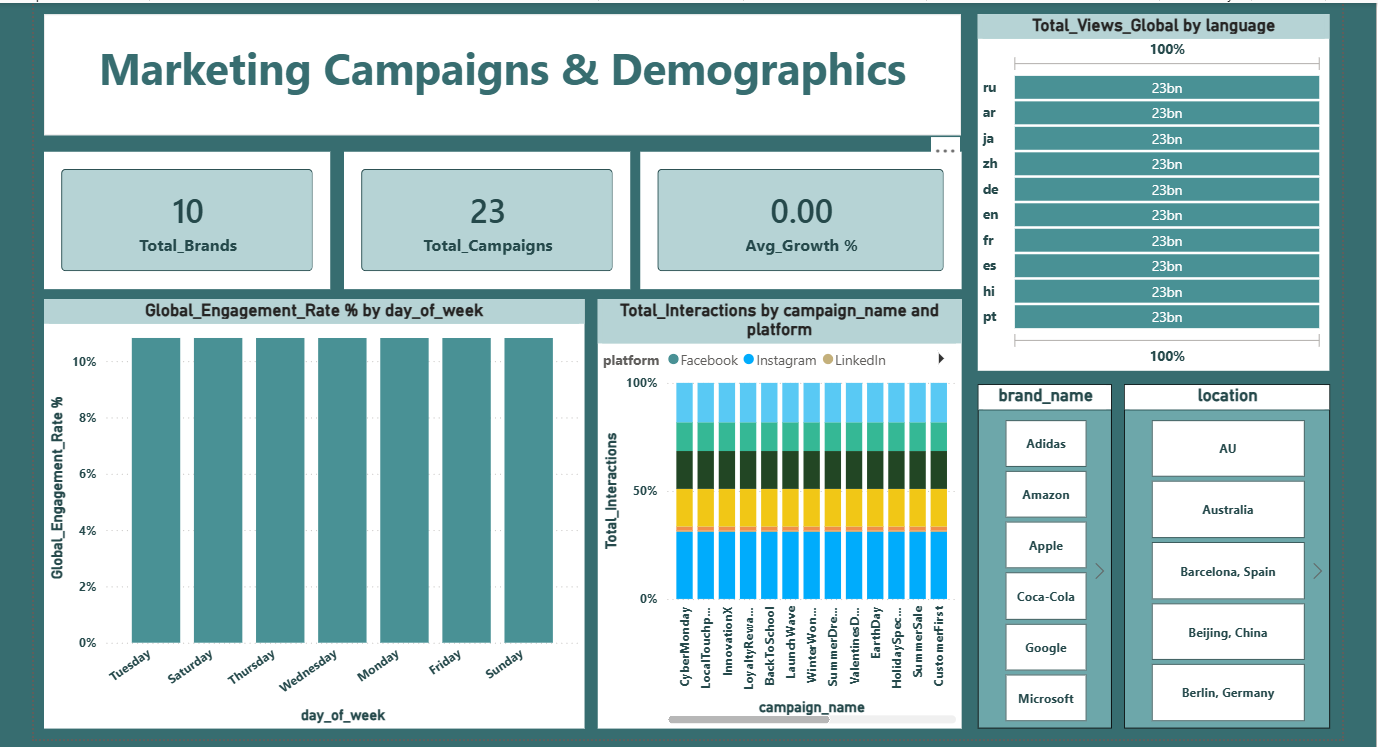

The page's visual inventory and layout, read from the dashboard file:
{"tool":"powerbi","page":{"name":"Page 3","canvas":[1280,720],"ordinal":2},"visuals":[{"type":"cardVisual","fields":{"Data":["Dim_Hashtags.Total_Brands"]},"box":[10,145.7,280,134.3],"z":0},{"type":"cardVisual","fields":{"Data":["Dim_Hashtags.Total_Campaigns"]},"box":[302.9,145.7,280,134.3],"z":1000},{"type":"cardVisual","fields":{"Data":["Dim_Hashtags.Avg_Growth %"]},"box":[592.9,145.7,314.3,134.3],"z":2000},{"type":"columnChart","fields":{"Category":["Social_Media_Engagement_Dataset.day_of_week"],"Y":["Dim_Hashtags.Global_Engagement_Rate %"]},"box":[10,290,528.6,420],"z":3000},{"type":"hundredPercentStackedColumnChart","fields":{"Category":["Social_Media_Engagement_Dataset.campaign_name"],"Y":["Dim_Hashtags.Total_Interactions"],"Series":["Dim_Platform.platform"]},"box":[551.4,290,355.7,420],"z":4000},{"type":"funnel","fields":{"Category":["Social_Media_Engagement_Dataset.language"],"Y":["Dim_Hashtags.Total_Views_Global"]},"box":[922.9,11.4,344.3,348.6],"z":5000},{"type":"slicer","title":"brand_name","fields":{"Values":["Social_Media_Engagement_Dataset.brand_name"]},"box":[922.9,372.9,131.4,337.1],"z":6000},{"type":"slicer","title":"location","fields":{"Values":["Dim_Region.location"]},"box":[1065.7,372.9,201.4,337.1],"z":7000},{"type":"textbox","box":[10,11.4,897.1,118.6],"z":8000}]}

Visuals, with their boxes in screenshot pixels (x1, y1, x2, y2):
cardVisual - Dim_Hashtags.Total_Brands: Rect(43, 145, 329, 283)
cardVisual - Dim_Hashtags.Total_Campaigns: Rect(342, 145, 628, 283)
cardVisual - Dim_Hashtags.Avg_Growth %: Rect(638, 145, 960, 283)
columnChart - Social_Media_Engagement_Dataset.day_of_week x Dim_Hashtags.Global_Engagement_Rate %: Rect(43, 293, 583, 722)
hundredPercentStackedColumnChart - Social_Media_Engagement_Dataset.campaign_name x Dim_Hashtags.Total_Interactions: Rect(596, 293, 960, 722)
funnel - Social_Media_Engagement_Dataset.language x Dim_Hashtags.Total_Views_Global: Rect(976, 8, 1328, 364)
"brand_name" slicer: Rect(976, 378, 1110, 722)
"location" slicer: Rect(1122, 378, 1328, 722)
textbox: Rect(43, 8, 960, 129)
